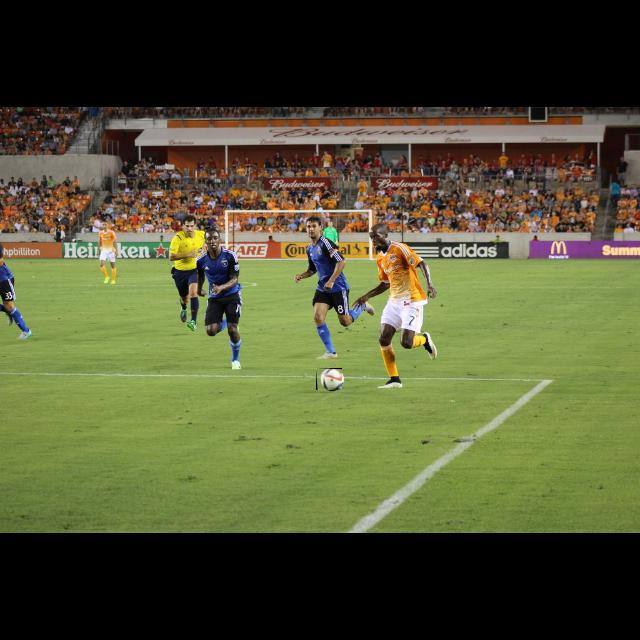Football: (316, 368, 342, 390)
